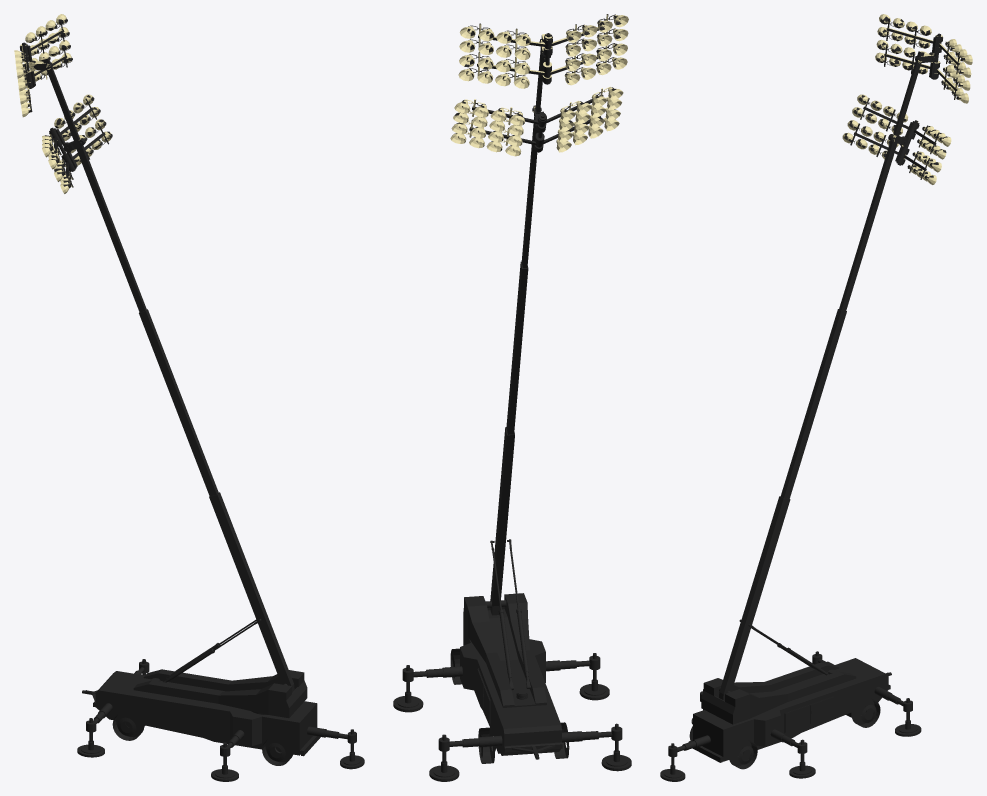
The model's file is light_tower_5.obj.
The picture shows the model from 3 angles, left to right: view 1: azimuth 30°, elevation 25°; view 2: azimuth 150°, elevation 25°; view 3: azimuth 270°, elevation 25°; orthographic projection. The views are drawn at different scales.
Parts seen in each view (by area): view 1: light_tower.005; view 2: light_tower.005; view 3: light_tower.005.
Part boxes in pixels (x1,y1,x2,y2): light_tower.005: (14,14,364,781); light_tower.005: (393,14,631,781); light_tower.005: (660,14,972,781).
Size of the model in its own units: 2.07 by 5.53 by 2.39.
1 material, 1 textured.
